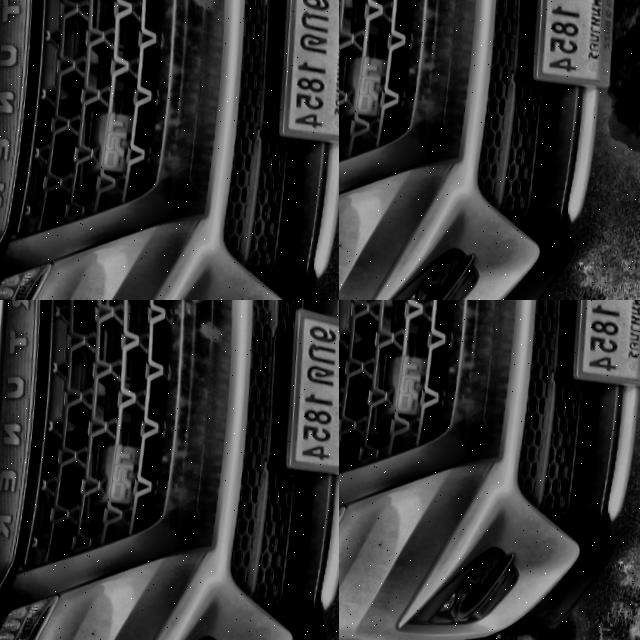license-plate: (562, 300, 640, 405)
